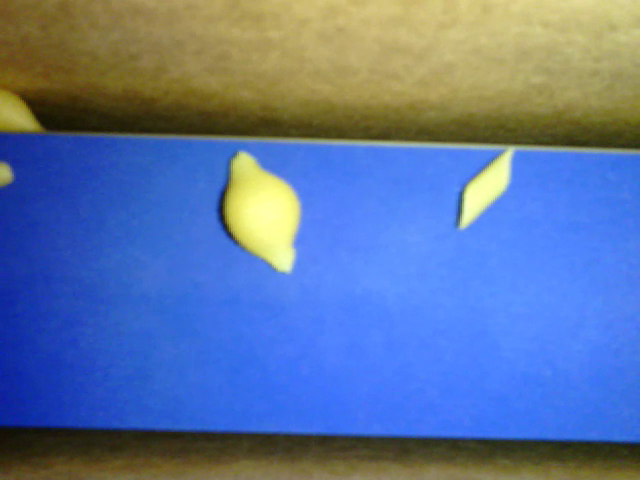penne: (458, 148, 515, 229)
shell: (222, 150, 301, 274)
